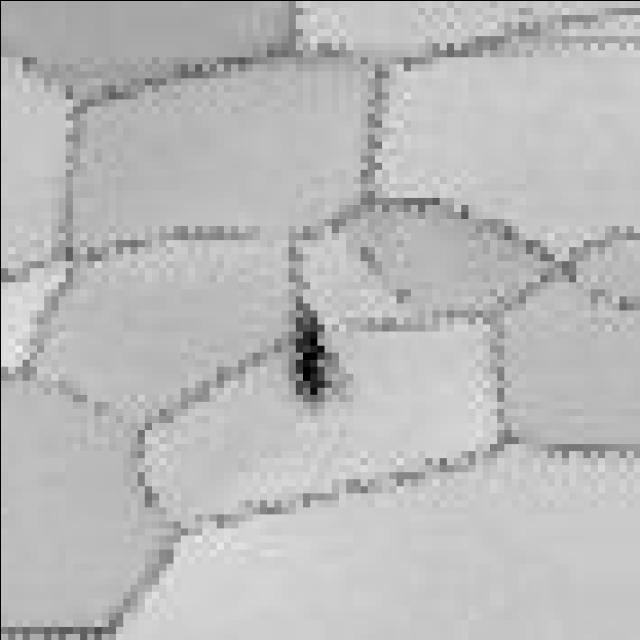good_void: (283, 284, 333, 408), (347, 235, 389, 274), (389, 282, 411, 306)
